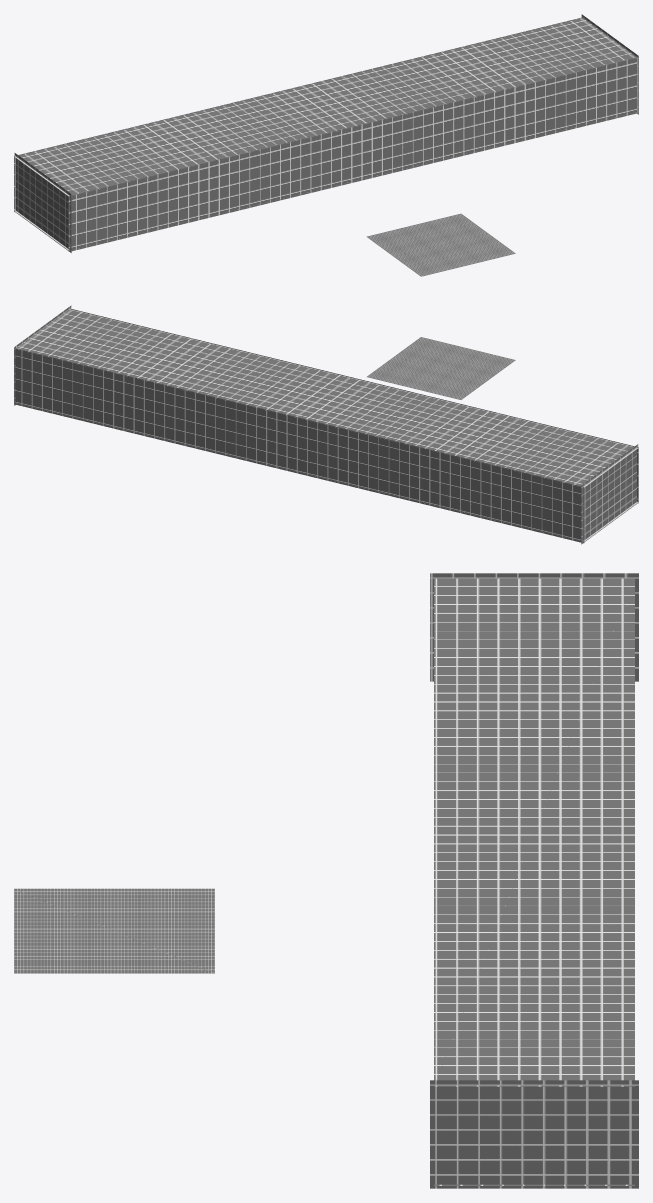
File: SUI_Env.fbx
3 views of the same model, one above another, from view 1: azimuth 30°, elevation 25°; view 2: azimuth 150°, elevation 25°; view 3: azimuth 270°, elevation 25° (orthographic). The views are drawn at different scales.
Parts seen in each view (by area): view 1: Plane.002, Plane.003, Plane.006, Plane.004, Plane.001, Plane; view 2: Plane.001, Plane.003, Plane.006, Plane.004, Plane.002; view 3: Plane.003, Plane.005, Plane.006, Plane.004.
Boxes of the visible parts, x1=… form: Plane.002: x1=68, y1=57, x2=637, y2=251; Plane.003: x1=14, y1=18, x2=636, y2=196; Plane.006: x1=366, y1=213, x2=515, y2=276; Plane.004: x1=14, y1=153, x2=71, y2=252; Plane.001: x1=14, y1=17, x2=582, y2=211; Plane: x1=14, y1=112, x2=635, y2=250; Plane.001: x1=14, y1=348, x2=584, y2=543; Plane.003: x1=15, y1=309, x2=638, y2=487; Plane.006: x1=367, y1=337, x2=515, y2=399; Plane.004: x1=581, y1=444, x2=638, y2=544; Plane.002: x1=70, y1=308, x2=638, y2=503; Plane.003: x1=434, y1=578, x2=634, y2=1086; Plane.005: x1=430, y1=1080, x2=638, y2=1188; Plane.006: x1=14, y1=888, x2=214, y2=973; Plane.004: x1=430, y1=573, x2=638, y2=681.
Size of the model in its own units: 1200 by 119 by 622.
Materials: 1 (1 with a texture image).
